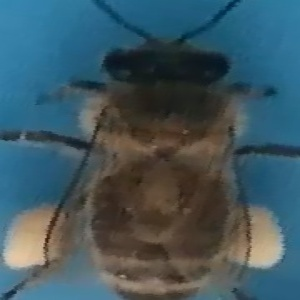bee: (5, 17, 292, 300)
